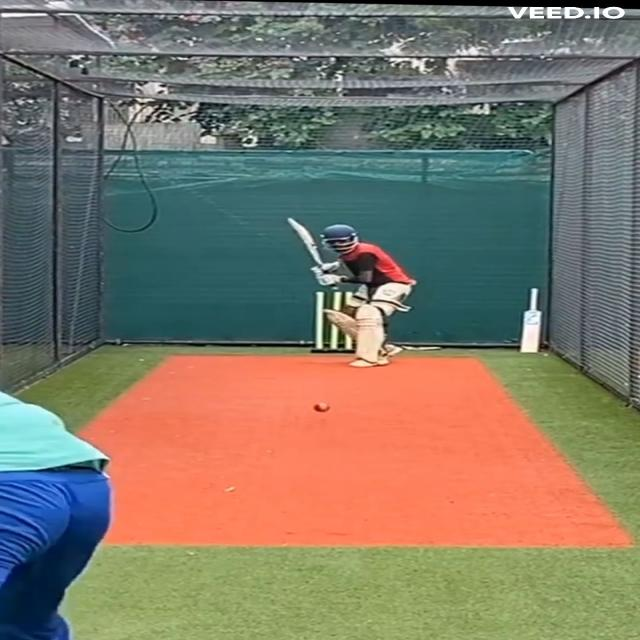ball: (309, 399, 333, 414)
stump: (309, 290, 357, 355)
